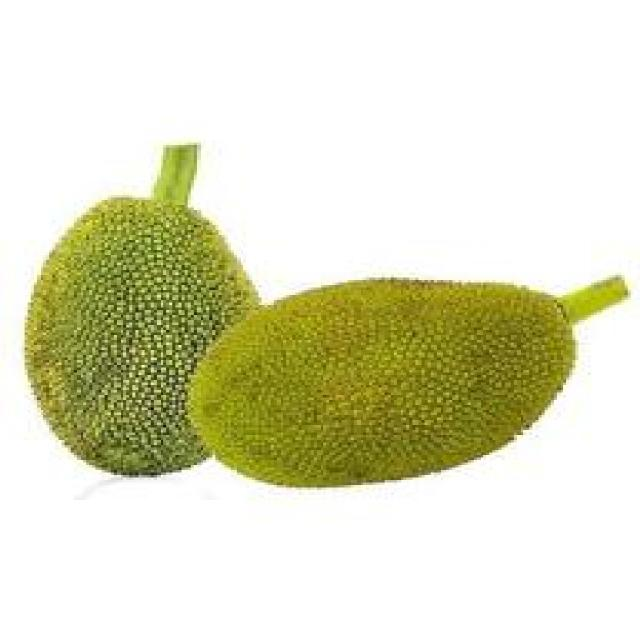Fruit: (175, 260, 594, 515), (6, 187, 283, 505)
